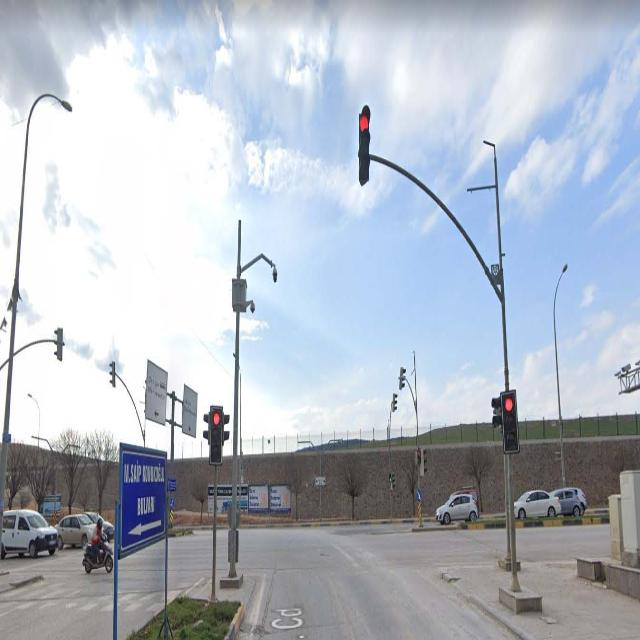kirmizi: (502, 392, 518, 452), (358, 110, 370, 180), (211, 404, 223, 464)
